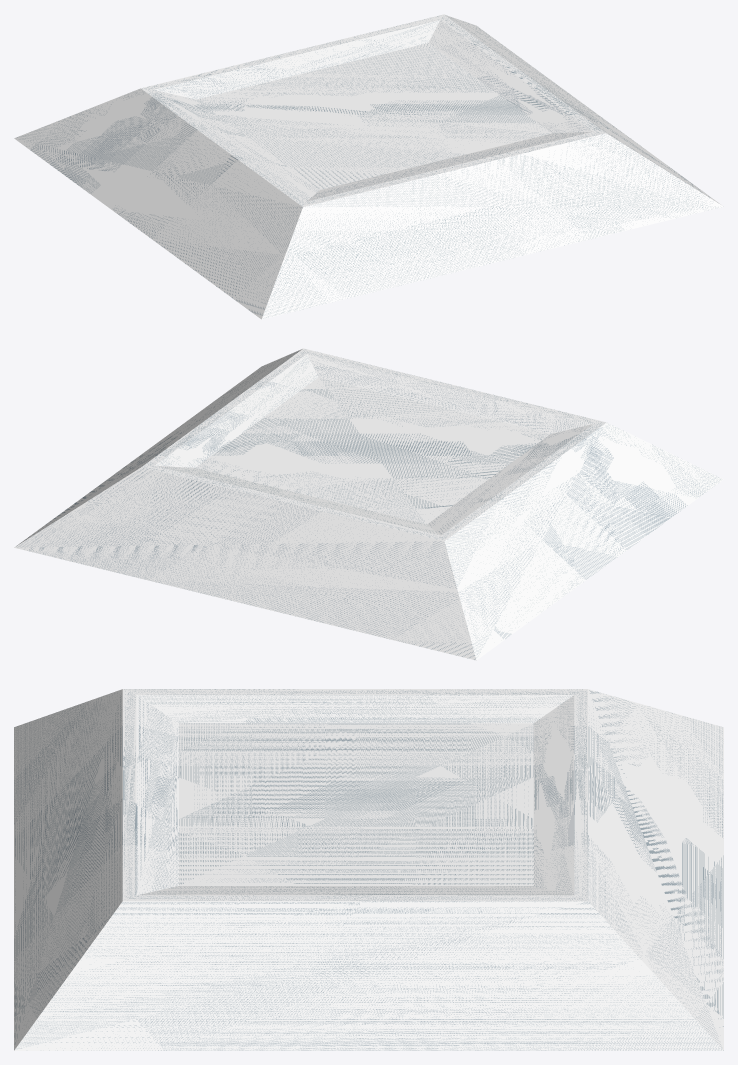
3 renders of one model, top to bottom at view 1: azimuth 30°, elevation 25°; view 2: azimuth 150°, elevation 25°; view 3: azimuth 270°, elevation 25°, orthographic. The views are drawn at different scales.
Visible parts, largest first — view 1: SketchUp (×2); view 2: SketchUp (×2); view 3: SketchUp (×2).
Boxes of the visible parts, bbox=[...] form: SketchUp (×2): bbox=[14, 14, 723, 319]; SketchUp (×2): bbox=[14, 348, 723, 660]; SketchUp (×2): bbox=[14, 689, 723, 1050].
Size of the model in its own units: 335 by 311 by 45.28.
